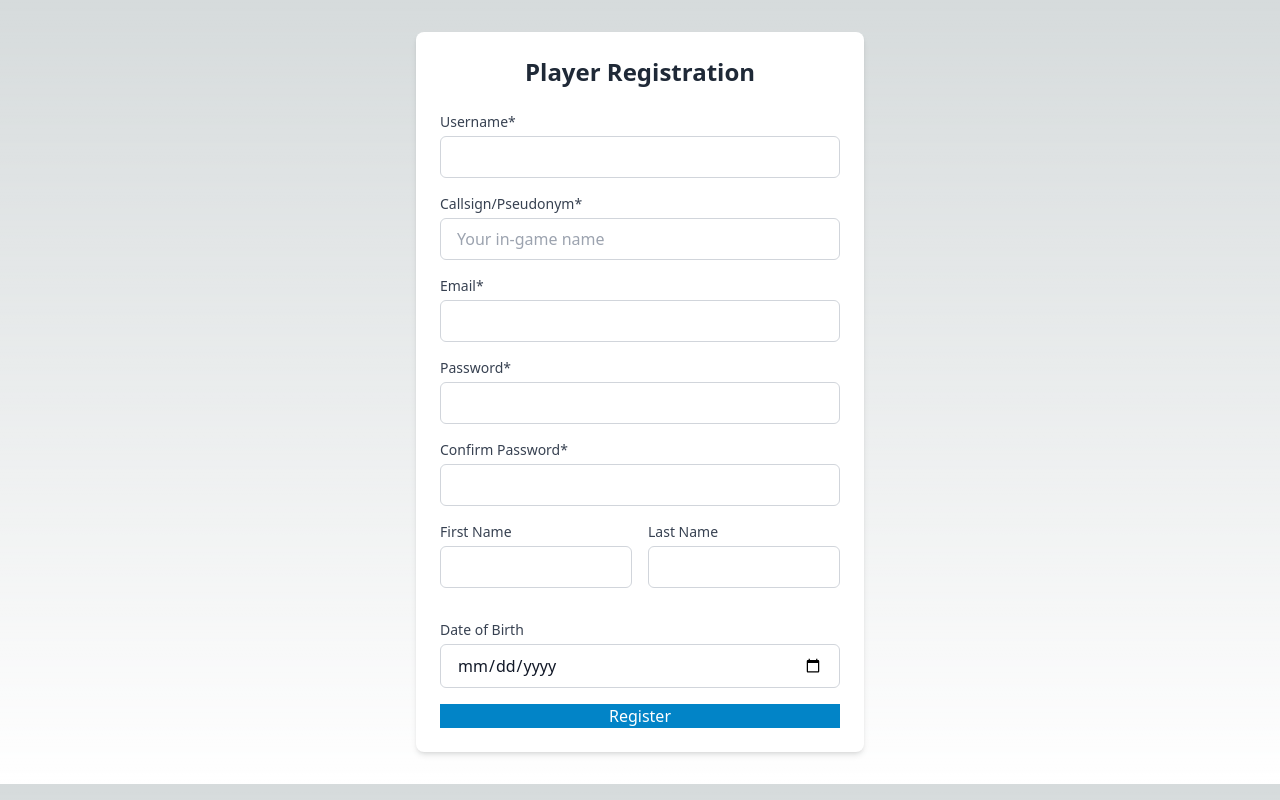
it: PlayerRegistration › displays field-specific errors
The width and height of the screenshot is (1280, 800).
Note: Fill out the form
Type "testuser" into the field with test id "username-input".
click(640, 157); type("testuser")  # box [440,136,840,178]
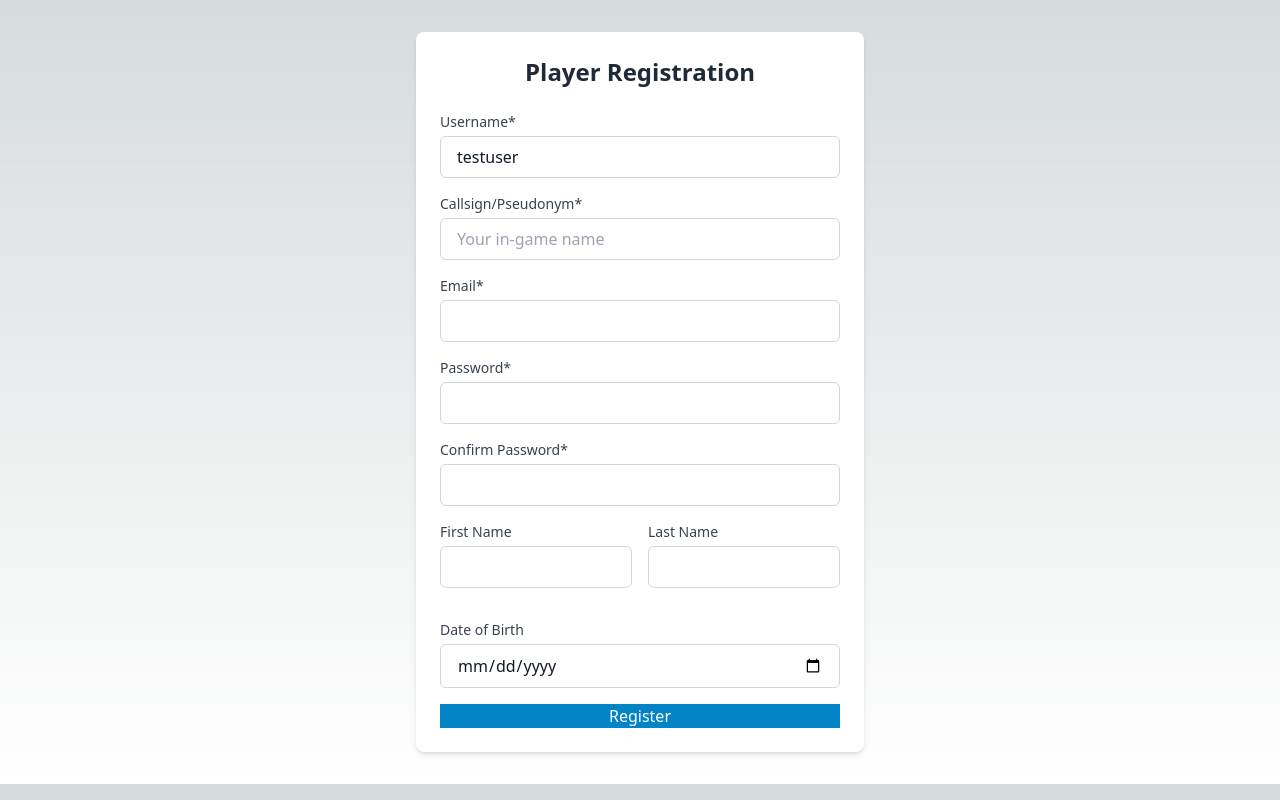
Type "TestPlayer" into the field with test id "callsign-input".
click(640, 239); type("TestPlayer")  # box [440,218,840,260]
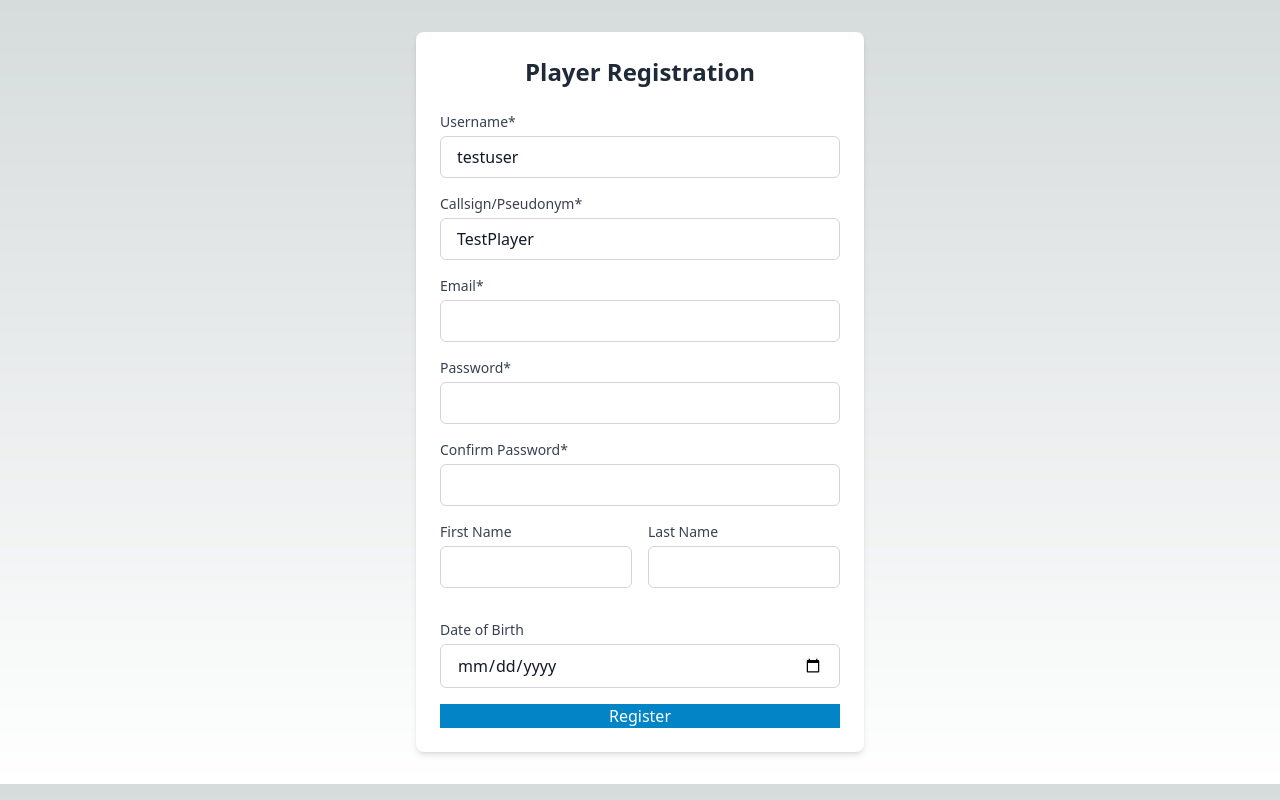
Type "test@example.com" into the field with test id "email-input".
click(640, 321); type("test@example.com")  # box [440,300,840,342]
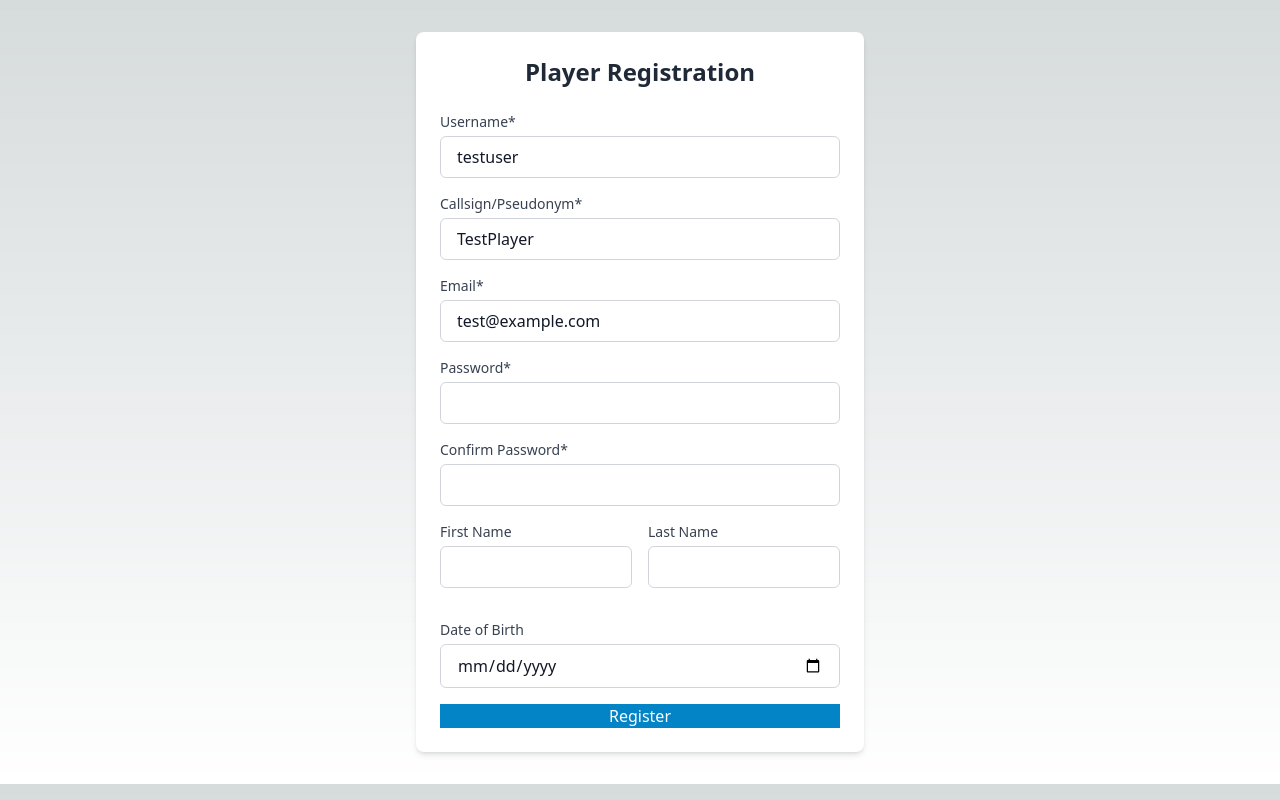
Type "Password123!" into the password field with test id "password-input".
click(640, 403); type("Password123!")  # box [440,382,840,424]
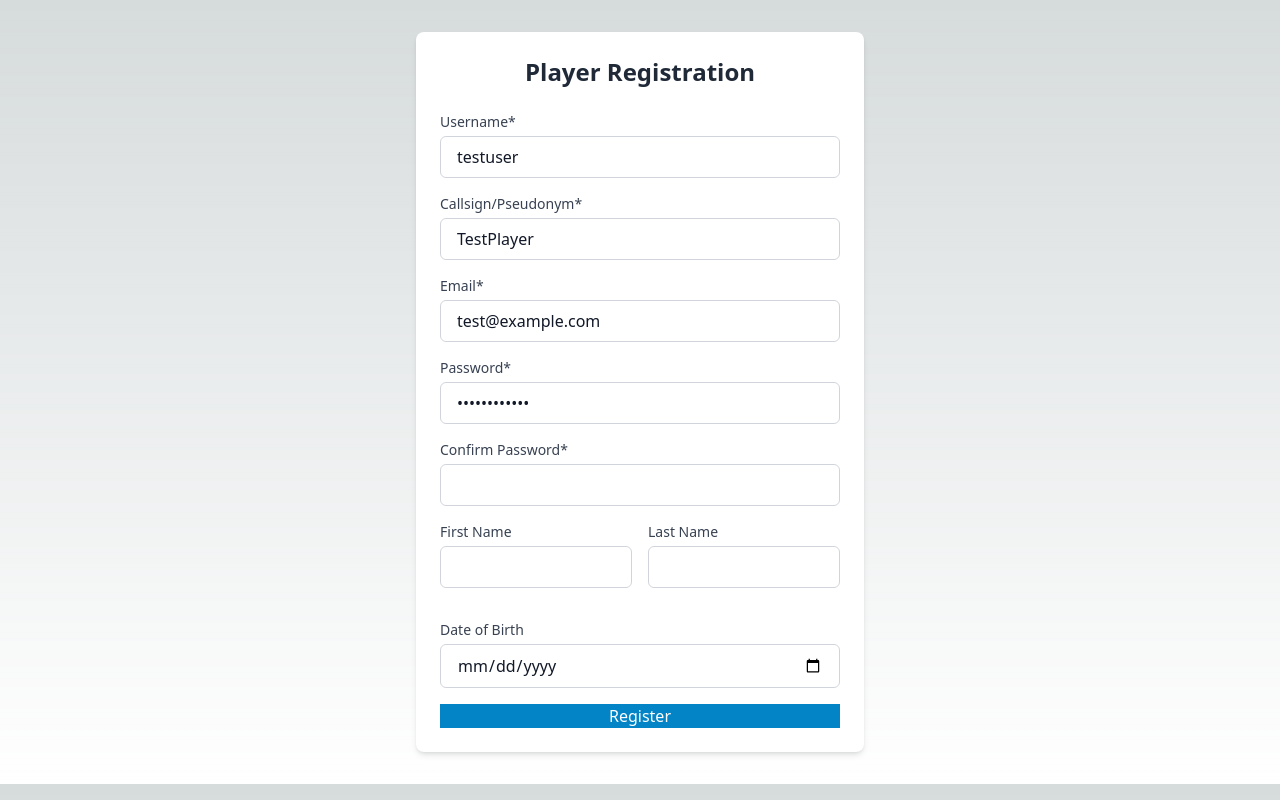
Type "DifferentPassword!" into the password field with test id "confirm-password-input".
click(640, 485); type("DifferentPassword!")  # box [440,464,840,506]
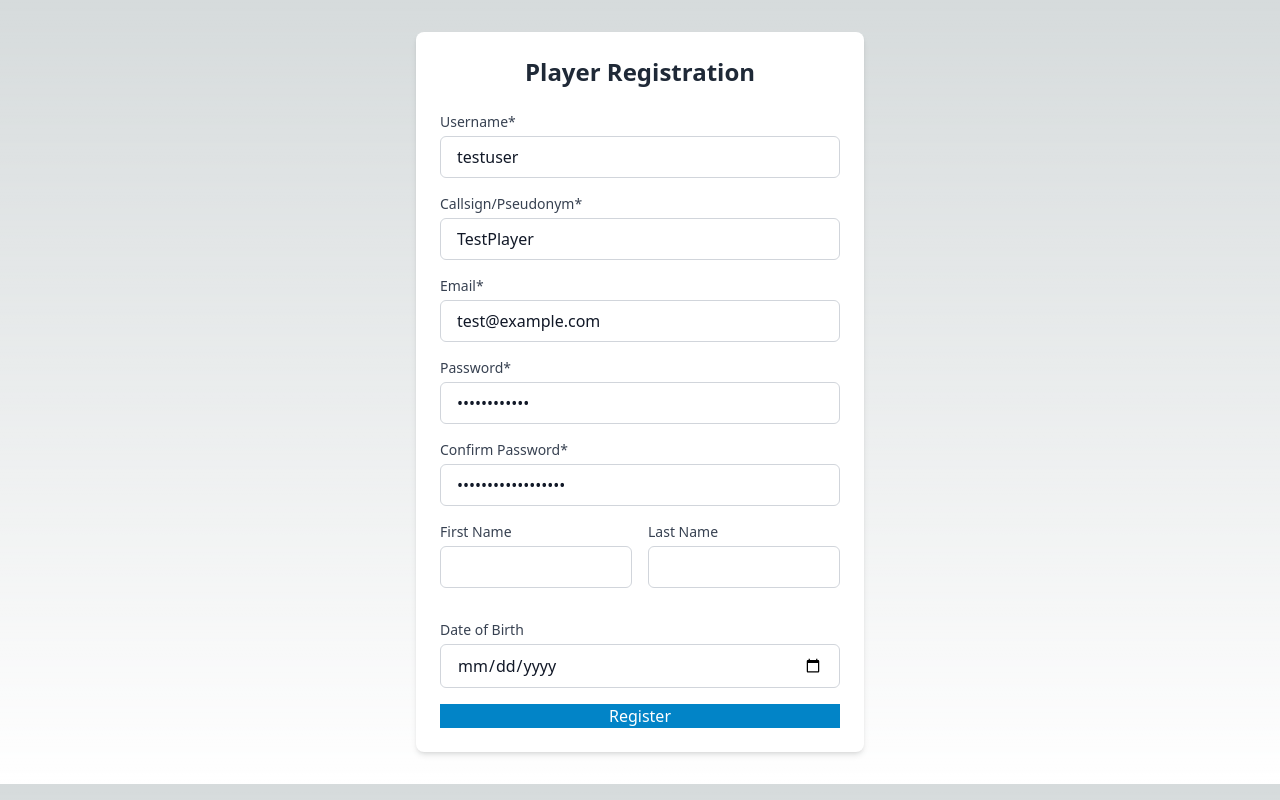
Note: Submit the form
Click the button with test id "register-button".
click(640, 716)  # box [440,704,840,728]
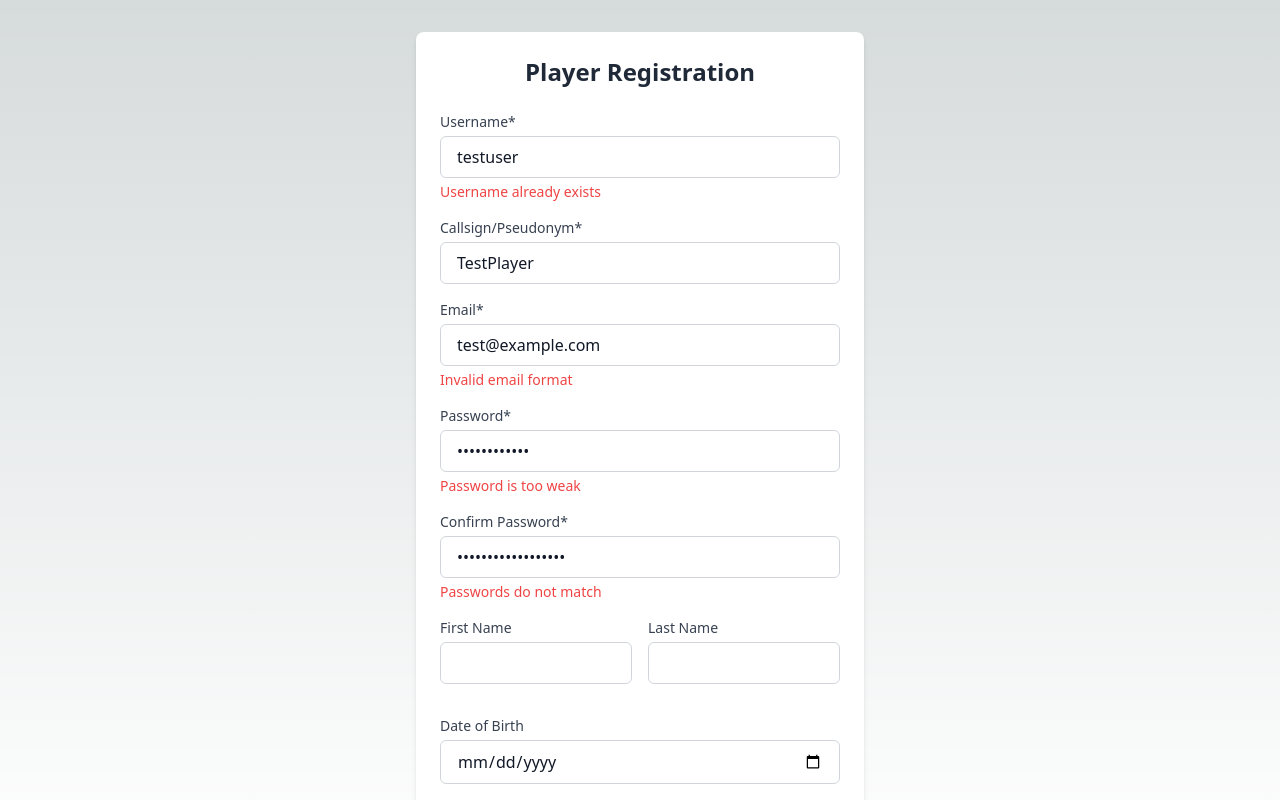
Result: the text with test id "username-error" reads "Username already exists" at [440,182,601,201]
Result: the text with test id "email-error" reads "Invalid email format" at [440,370,573,389]
Result: the text with test id "password-error" reads "Password is too weak" at [440,476,581,495]
